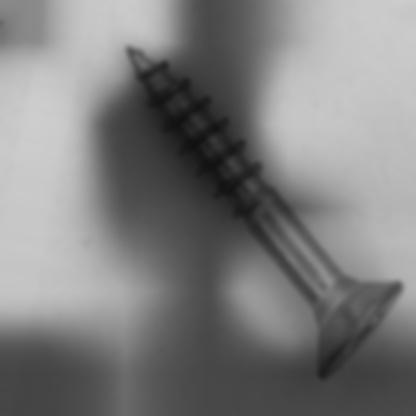metal: (124, 43, 403, 380)
